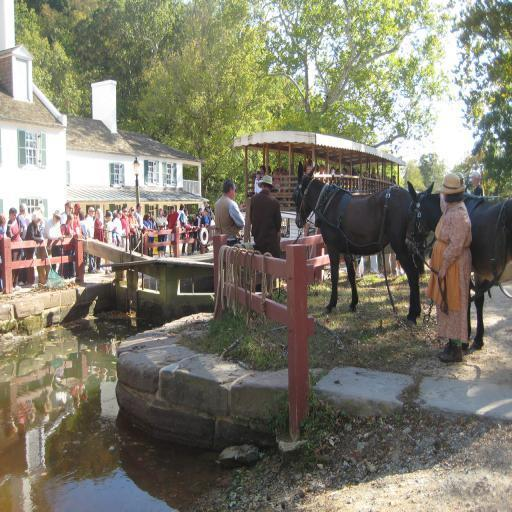horse: (292, 159, 426, 322), (402, 180, 512, 349)
